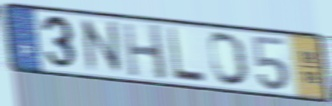3: (40, 12, 81, 72)
5: (252, 35, 292, 93)
H: (120, 21, 170, 83)
L: (165, 25, 208, 85)
N: (78, 17, 126, 75)
O: (207, 30, 251, 88)
